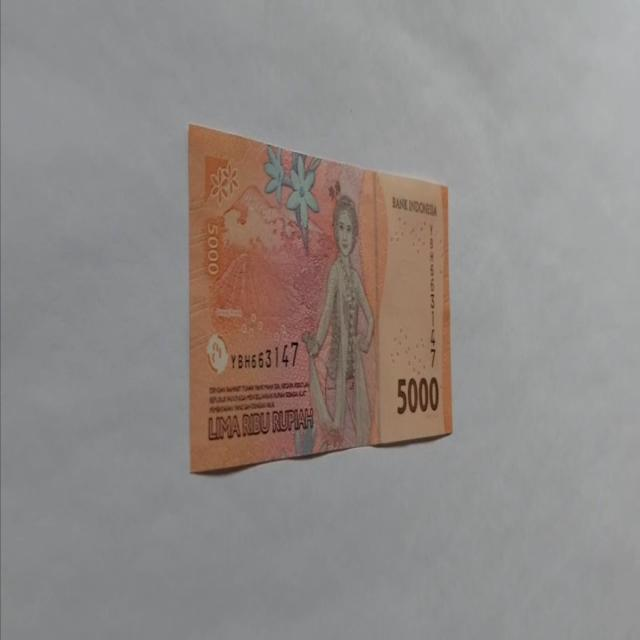lima ribu rupiah: (187, 121, 453, 474), (300, 193, 376, 452)
